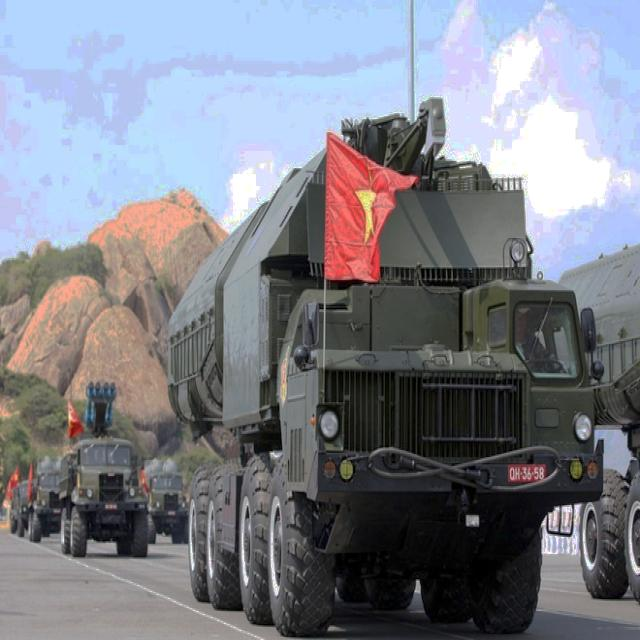license_plate: (509, 463, 546, 482)
